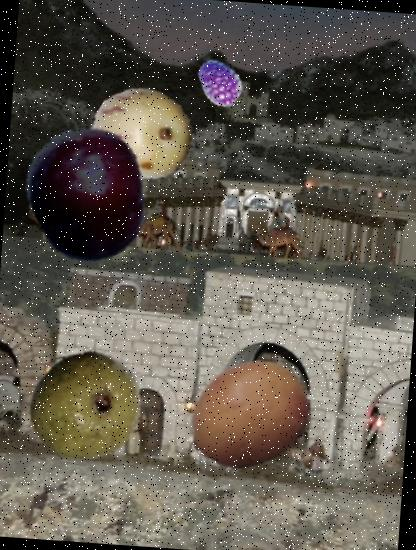Apricot: (184, 350, 315, 482)
Guava: (22, 344, 148, 468)
Pepino: (88, 80, 195, 188)
Plum: (17, 123, 159, 265)
Raspberry: (191, 57, 245, 111)
